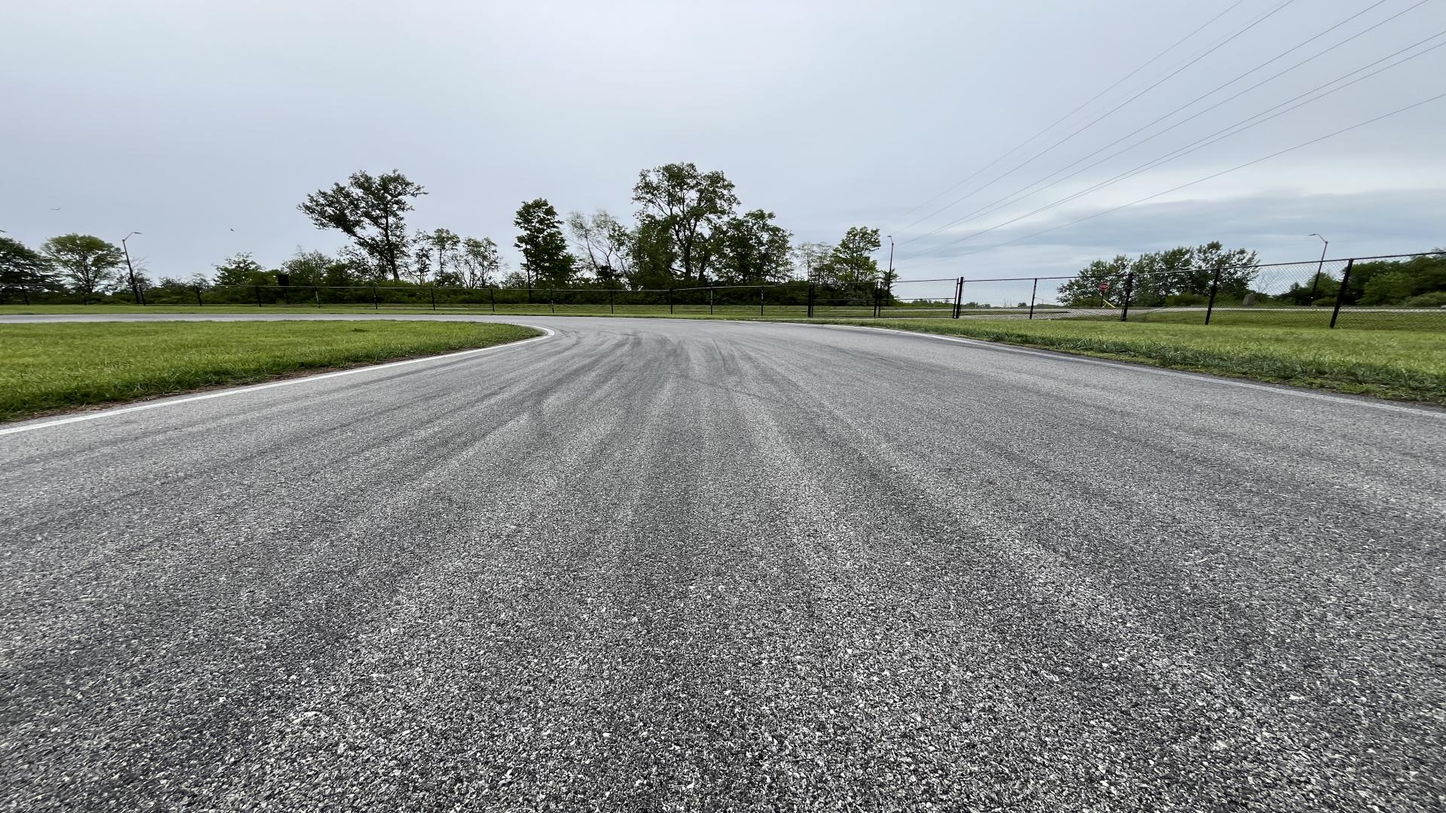white-line: (556, 316, 1445, 422), (0, 320, 554, 435)
